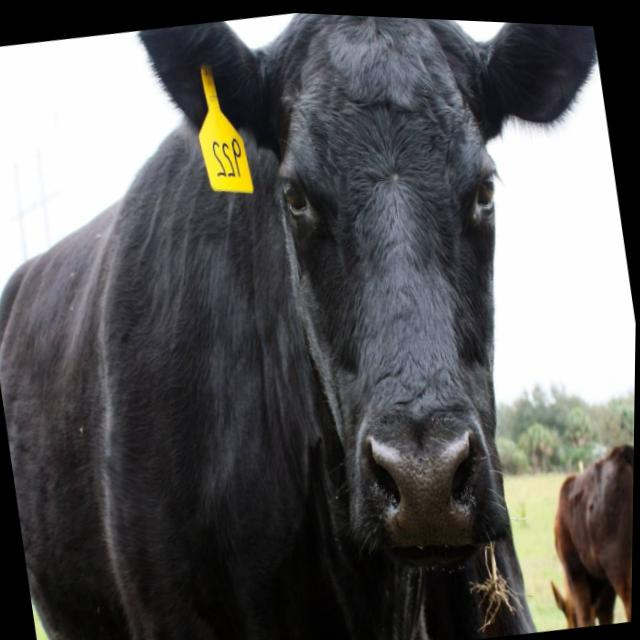cowFace: (128, 5, 640, 617)
